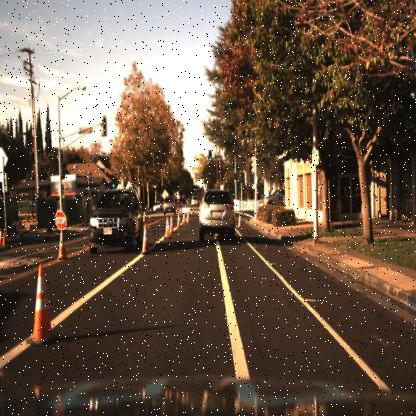car: (88, 188, 145, 256), (197, 187, 237, 245), (262, 187, 287, 209), (188, 190, 202, 208)
trafficLight-Green: (232, 169, 238, 189), (110, 179, 118, 192), (232, 172, 239, 186), (208, 149, 212, 165)
